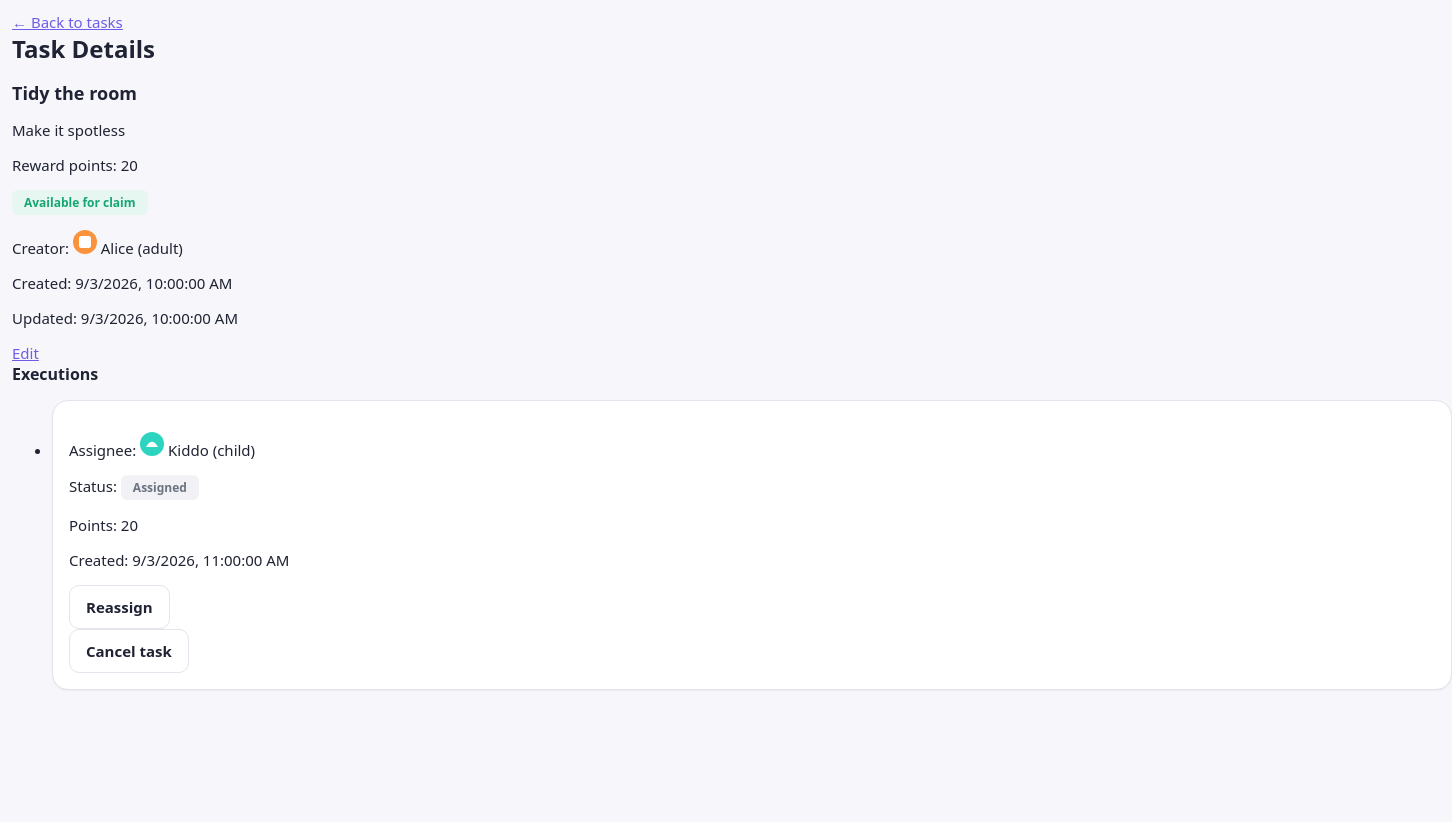
TaskDetailsPage › successful reassignment refreshes the execution and shows the new assignee
This screenshot has width=1452, height=822.
Click the button "Reassign" at (119, 607), box [69,585,170,629]
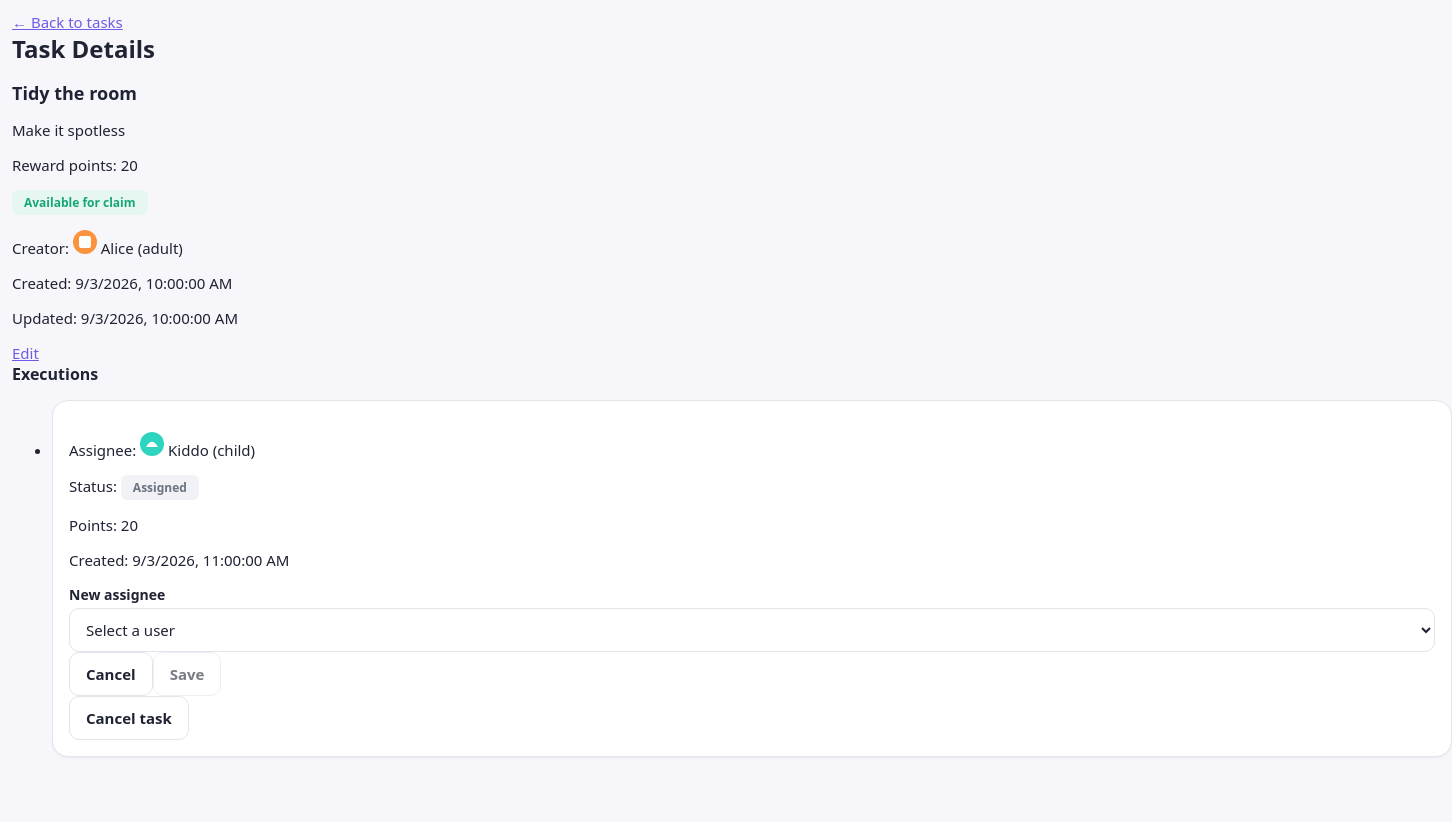
Select "Bob (adult)" in the dropdown labelled "New assignee" at (752, 630), box [69,608,1435,652]
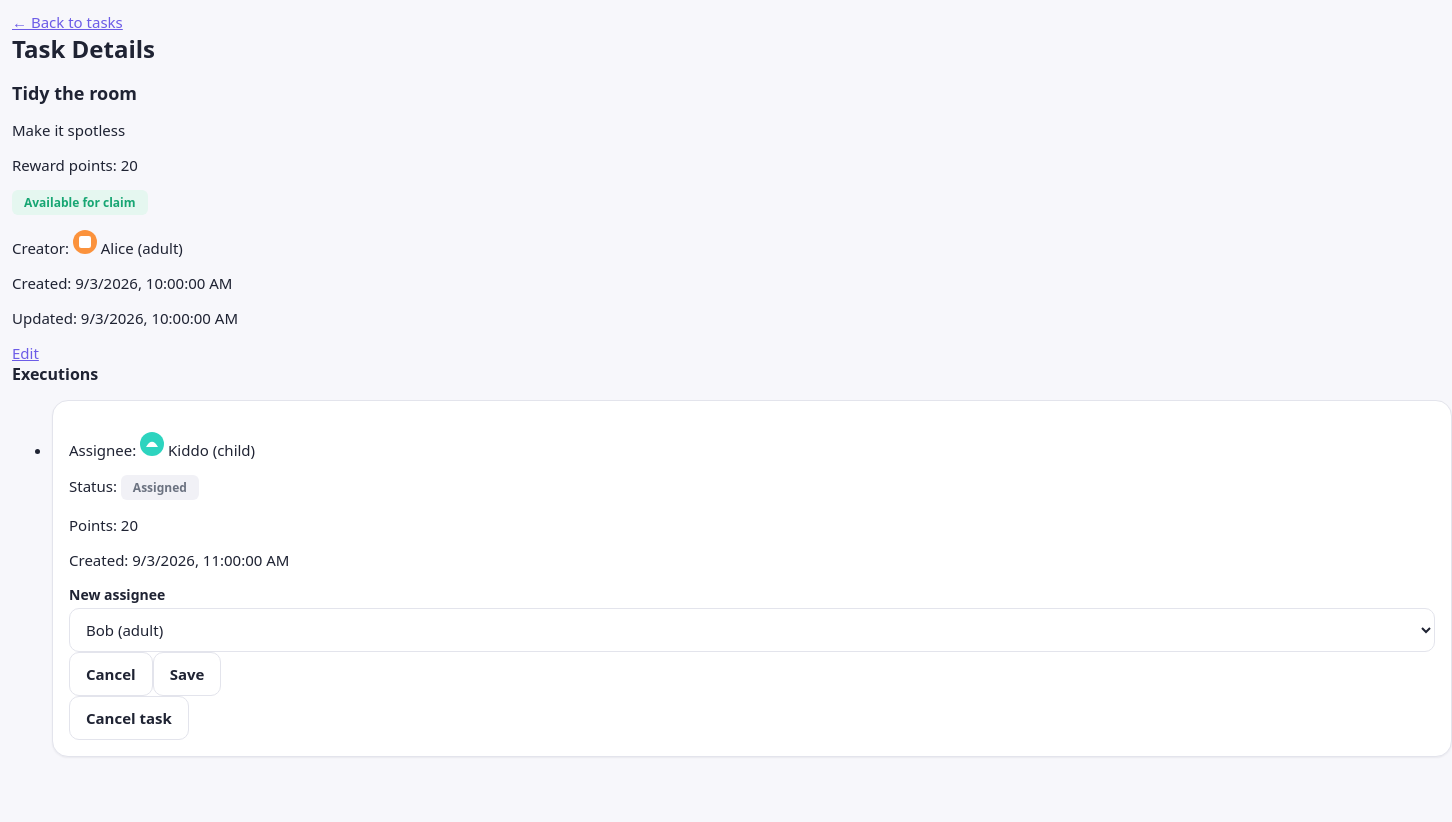
Click the button "Save" at (187, 674), box [153,652,221,696]
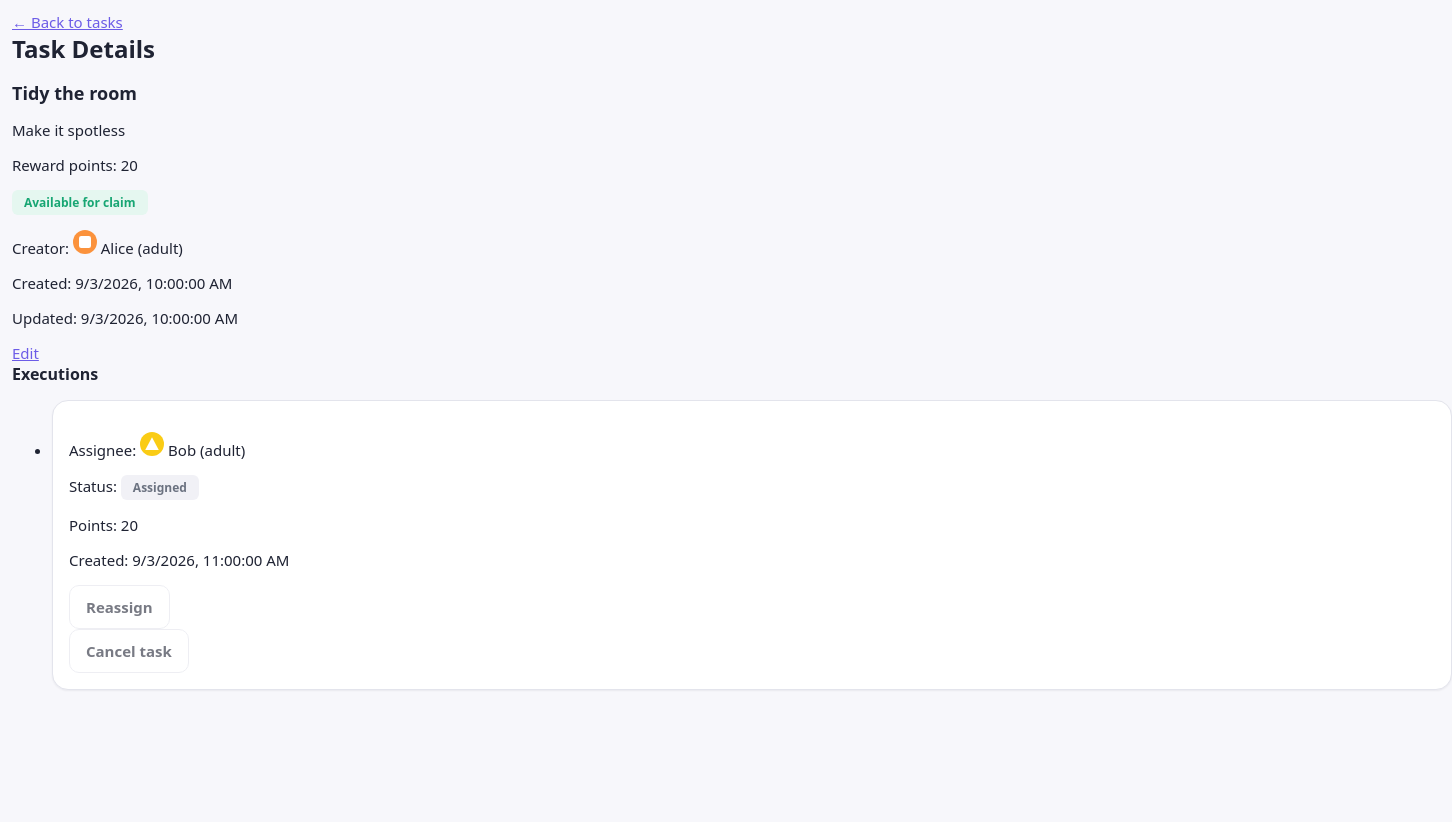
Result: the text "Assignee: Bob (adult)" is shown at [69,432,245,460]
